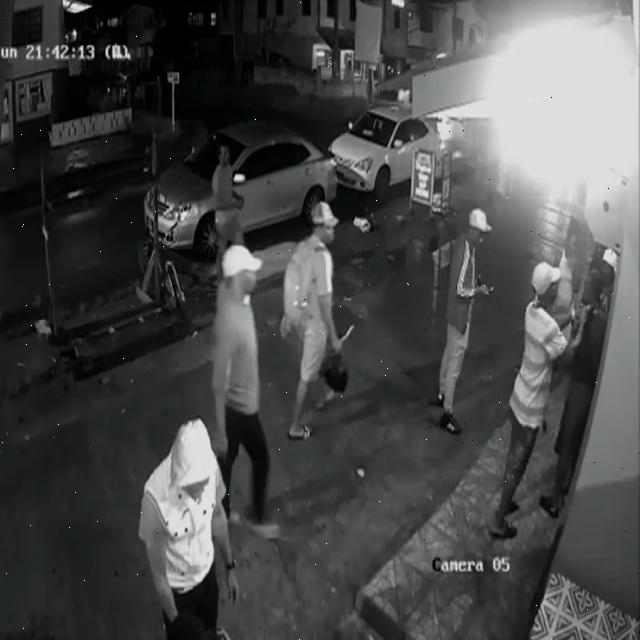standing: (490, 262, 583, 537), (138, 417, 238, 639), (213, 245, 278, 537), (281, 201, 345, 440), (431, 208, 491, 433), (212, 144, 243, 266)
